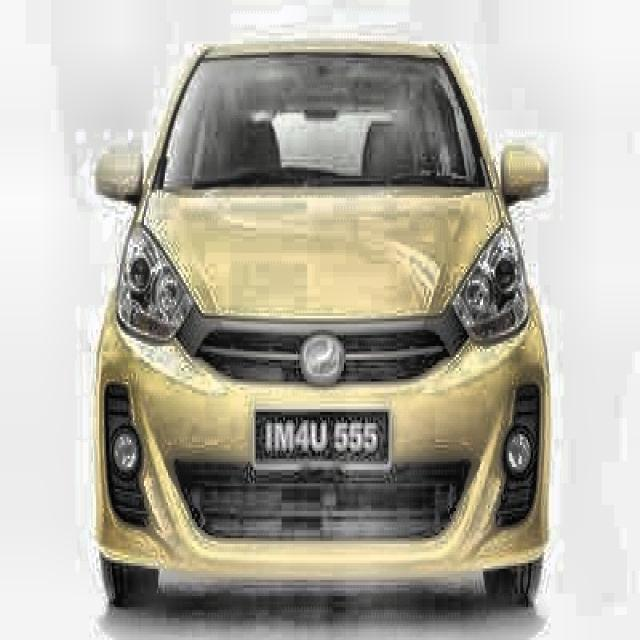license_plate: (255, 412, 390, 468)
